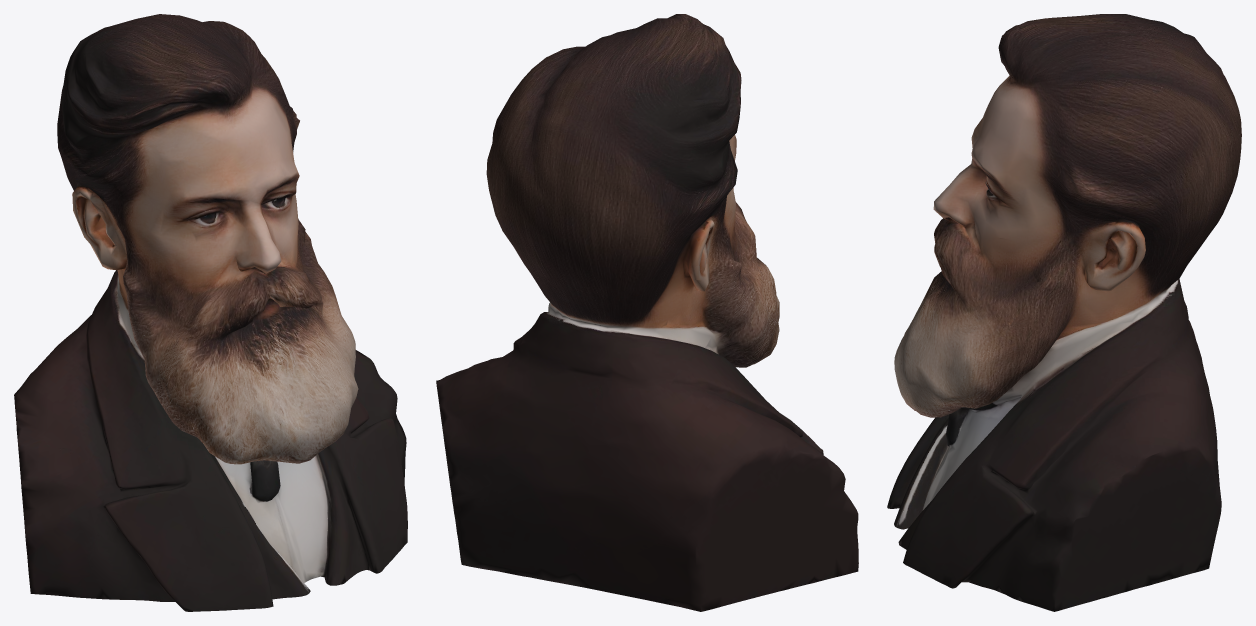
Rendered from ZeAlencar.glb.
3 views of the same model, side by side, from view 1: azimuth 30°, elevation 25°; view 2: azimuth 150°, elevation 25°; view 3: azimuth 270°, elevation 25° (orthographic). The views are drawn at different scales.
Visible parts, largest first — view 1: tripo_node_01f7b650-ccb7-452b-958b-1834cf66e47c; view 2: tripo_node_01f7b650-ccb7-452b-958b-1834cf66e47c; view 3: tripo_node_01f7b650-ccb7-452b-958b-1834cf66e47c.
Boxes of the visible parts, x1,y1,x2,y2 form: tripo_node_01f7b650-ccb7-452b-958b-1834cf66e47c: (14, 14, 407, 611); tripo_node_01f7b650-ccb7-452b-958b-1834cf66e47c: (436, 14, 858, 611); tripo_node_01f7b650-ccb7-452b-958b-1834cf66e47c: (887, 14, 1241, 611).
Size of the model in its own units: 0.8332 by 1 by 0.6643.
1 material, 1 textured.
